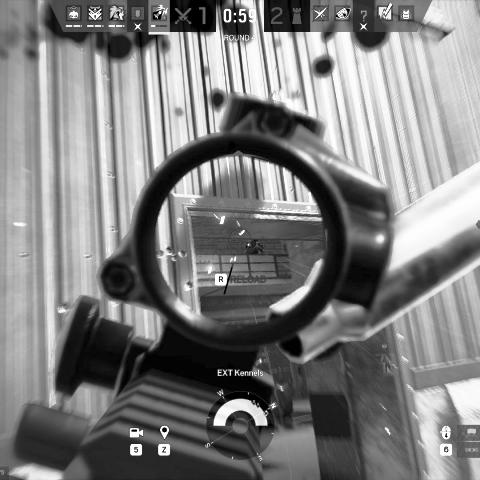Character: (245, 239, 264, 254)
Head: (253, 240, 258, 243)
